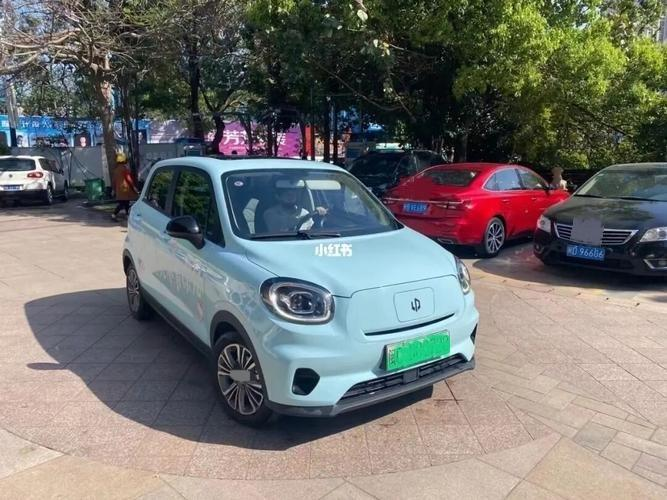LEAPMOTOR: (410, 297, 421, 312)
